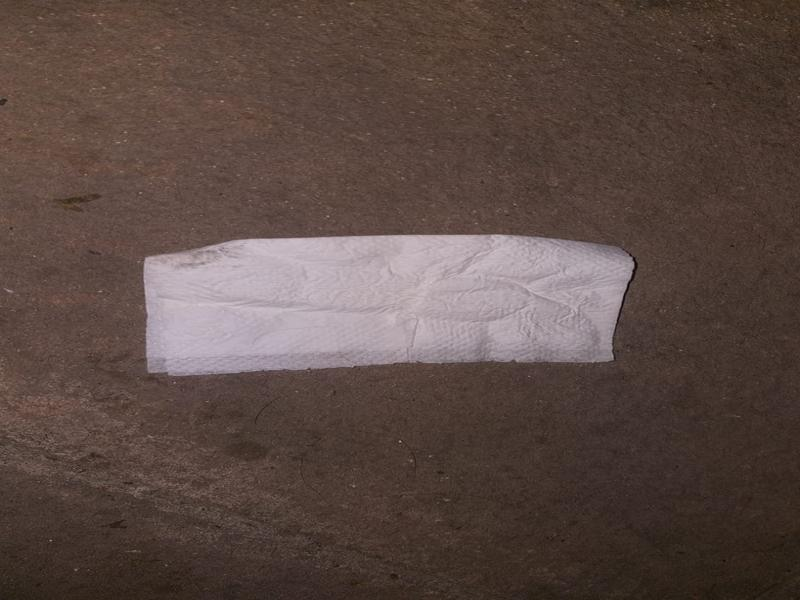papel: (142, 235, 637, 379)
